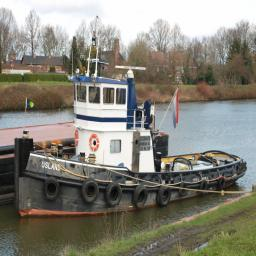tugboat: (12, 56, 249, 222)
